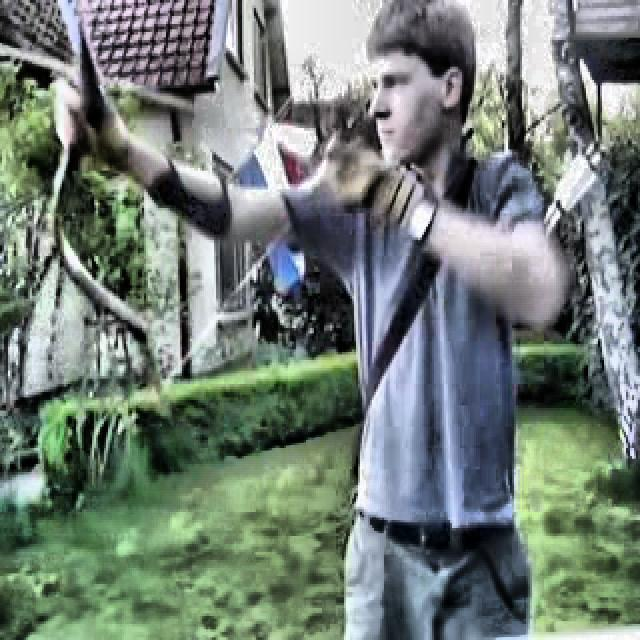P: (56, 7, 567, 634)
